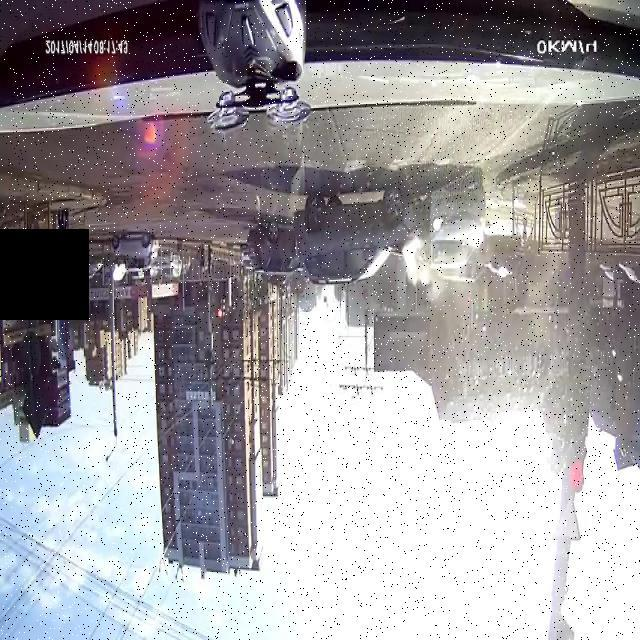moderate: (294, 170, 488, 298)
